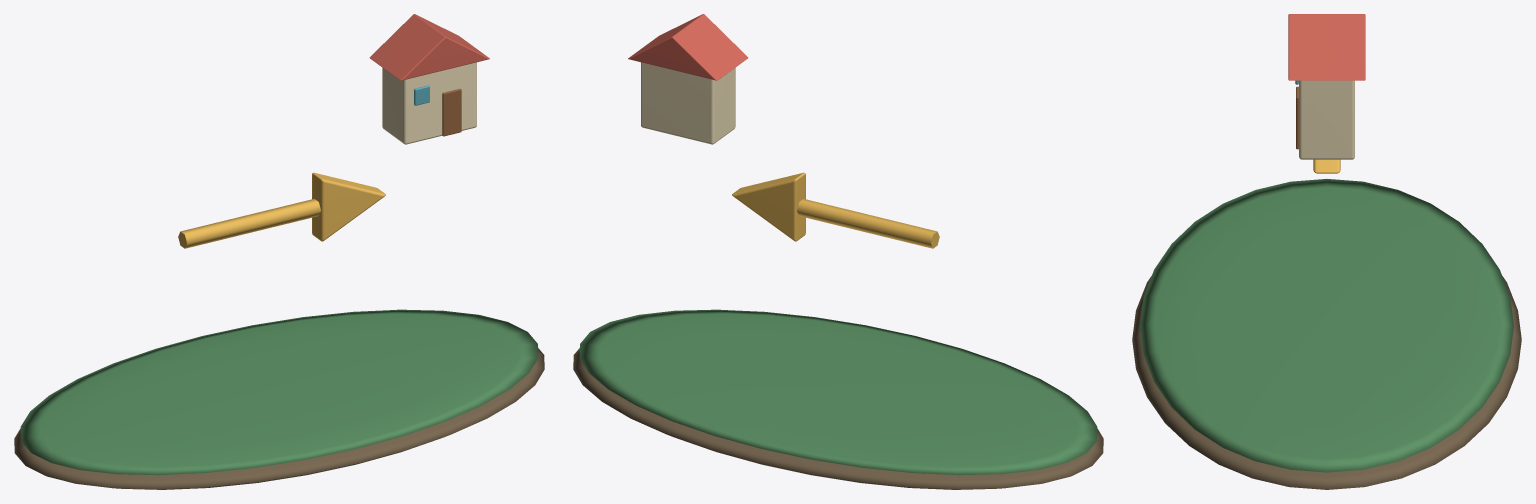
Rendered from complete-first-toward-arrow.glb.
The picture shows the model from 3 angles, left to right: view 1: azimuth 30°, elevation 25°; view 2: azimuth 150°, elevation 25°; view 3: azimuth 270°, elevation 25°; orthographic projection. The views are drawn at different scales.
Parts seen in each view (by area): view 1: complete-first-toward-arrow_surface_01, complete-first-toward-arrow_surface_00, complete-first-toward-arrow_surface_02, complete-first-toward-arrow_surface_03, complete-first-toward-arrow_surface_04, complete-first-toward-arrow_surface_05; view 2: complete-first-toward-arrow_surface_01, complete-first-toward-arrow_surface_00, complete-first-toward-arrow_surface_03, complete-first-toward-arrow_surface_02, complete-first-toward-arrow_surface_04; view 3: complete-first-toward-arrow_surface_01, complete-first-toward-arrow_surface_00, complete-first-toward-arrow_surface_04, complete-first-toward-arrow_surface_03.
Boxes of the visible parts, x1,y1,x2,y2 form: complete-first-toward-arrow_surface_01: (20, 309, 538, 475); complete-first-toward-arrow_surface_00: (14, 348, 544, 489); complete-first-toward-arrow_surface_02: (178, 172, 385, 248); complete-first-toward-arrow_surface_03: (382, 62, 476, 144); complete-first-toward-arrow_surface_04: (369, 14, 489, 80); complete-first-toward-arrow_surface_05: (442, 88, 461, 136); complete-first-toward-arrow_surface_01: (579, 309, 1097, 475); complete-first-toward-arrow_surface_00: (573, 348, 1103, 489); complete-first-toward-arrow_surface_03: (641, 62, 735, 144); complete-first-toward-arrow_surface_02: (732, 172, 939, 248); complete-first-toward-arrow_surface_04: (628, 14, 748, 80); complete-first-toward-arrow_surface_01: (1140, 179, 1513, 472); complete-first-toward-arrow_surface_00: (1132, 276, 1521, 489); complete-first-toward-arrow_surface_04: (1288, 14, 1365, 80); complete-first-toward-arrow_surface_03: (1299, 80, 1354, 159).
Bounding box in the file's own units: 4.56 × 3.06 × 2.5.
